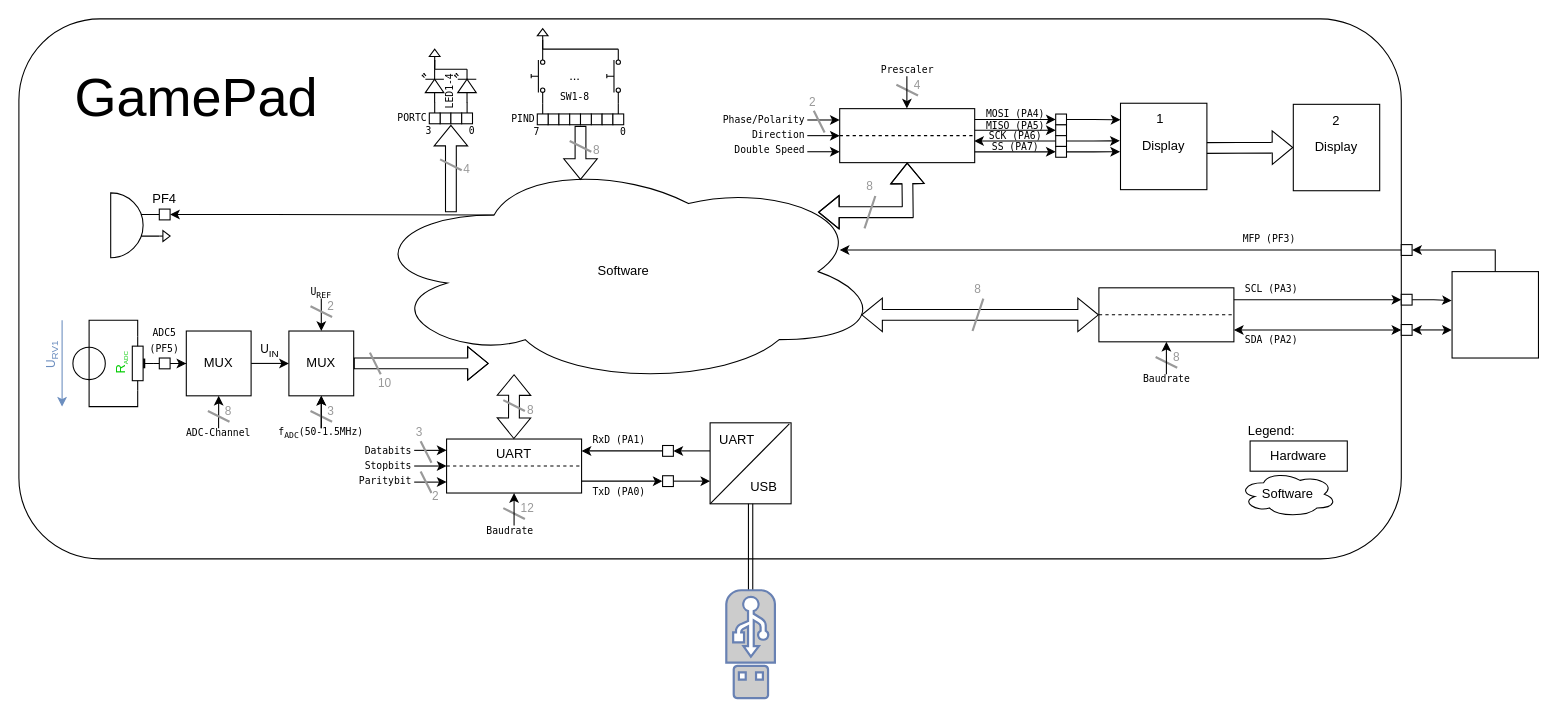
Some shapes in this 1557 by 718 pixel diagram are drawn without their labels. Here are the shapes that lost their labels. From the top down, the centre of each, then its label:
At (x=907, y=135): "SPI".
At (x=134, y=225): "Buzzer".
At (x=1166, y=314): "TWI".
At (x=1494, y=314): "Gamecard (EEPROM)".
